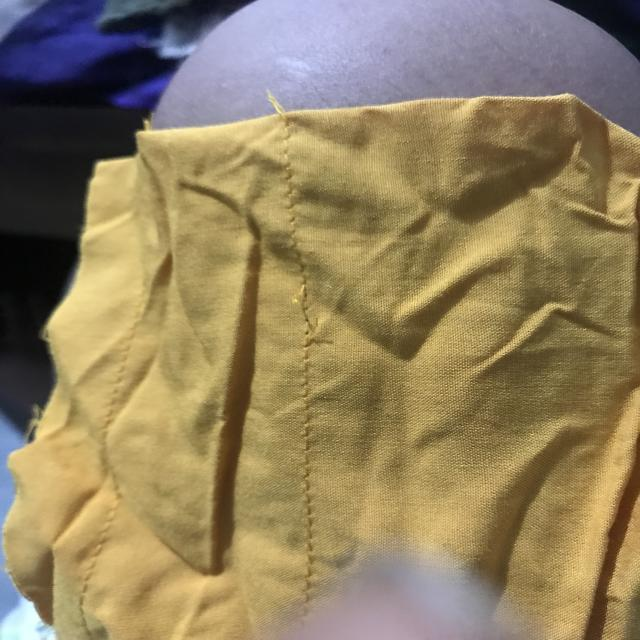broken: (286, 267, 331, 357)
good: (287, 376, 329, 526)
